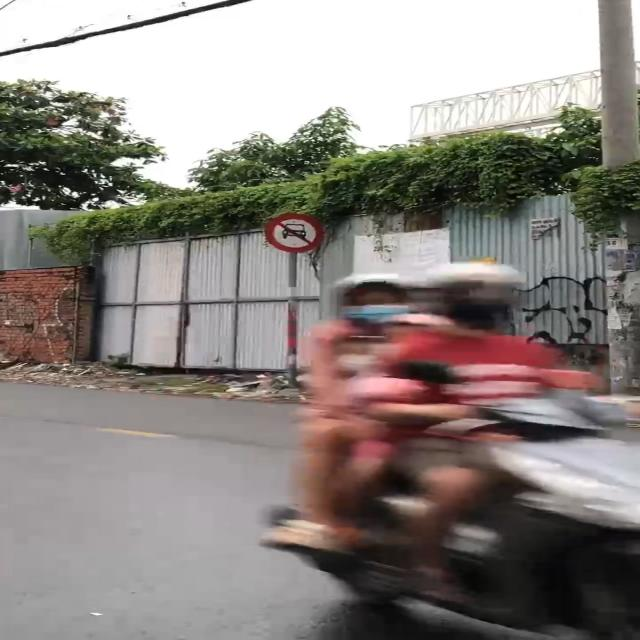Bien bao cam xe oto: (259, 210, 327, 252)
